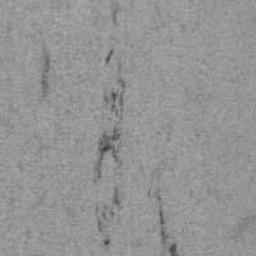Inclusion: (93, 125, 125, 179), (102, 61, 128, 123), (93, 186, 125, 233), (156, 209, 182, 256), (41, 41, 51, 101), (105, 47, 114, 64), (104, 238, 111, 246)
